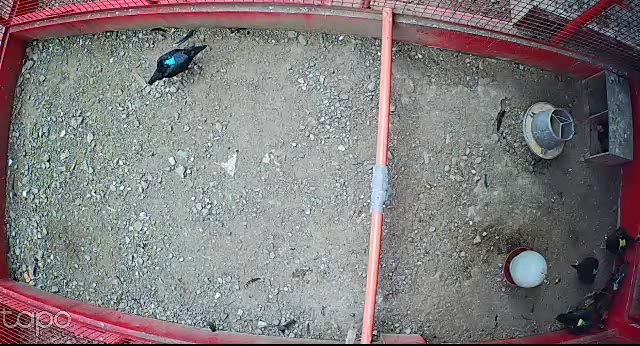Chicken: (146, 42, 211, 87), (554, 303, 607, 336), (596, 225, 640, 256), (569, 255, 600, 284)
Rooster: (584, 265, 631, 316)
Saddle_Color_Blue: (165, 56, 175, 66)
Saddle_Color_Yellow: (618, 239, 627, 248)
Saddle_Color_YellowGreen: (576, 318, 586, 326)
